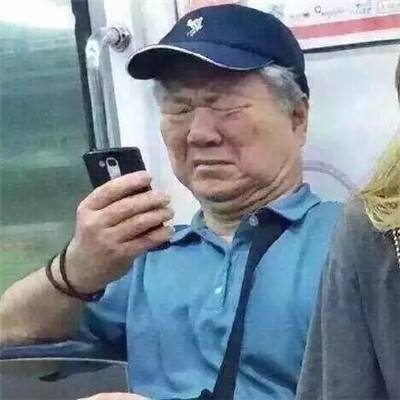reading: (65, 142, 179, 291)
